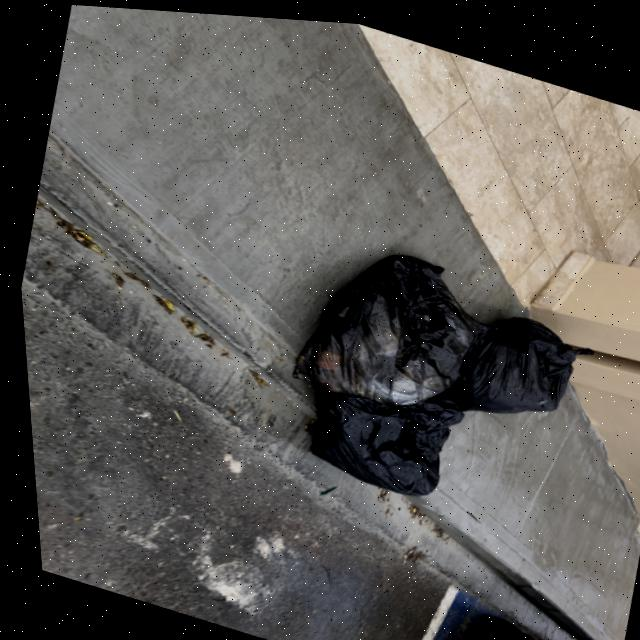Mixed Waste -Black Bag-: (273, 221, 491, 431), (294, 354, 468, 506), (430, 293, 581, 438)
